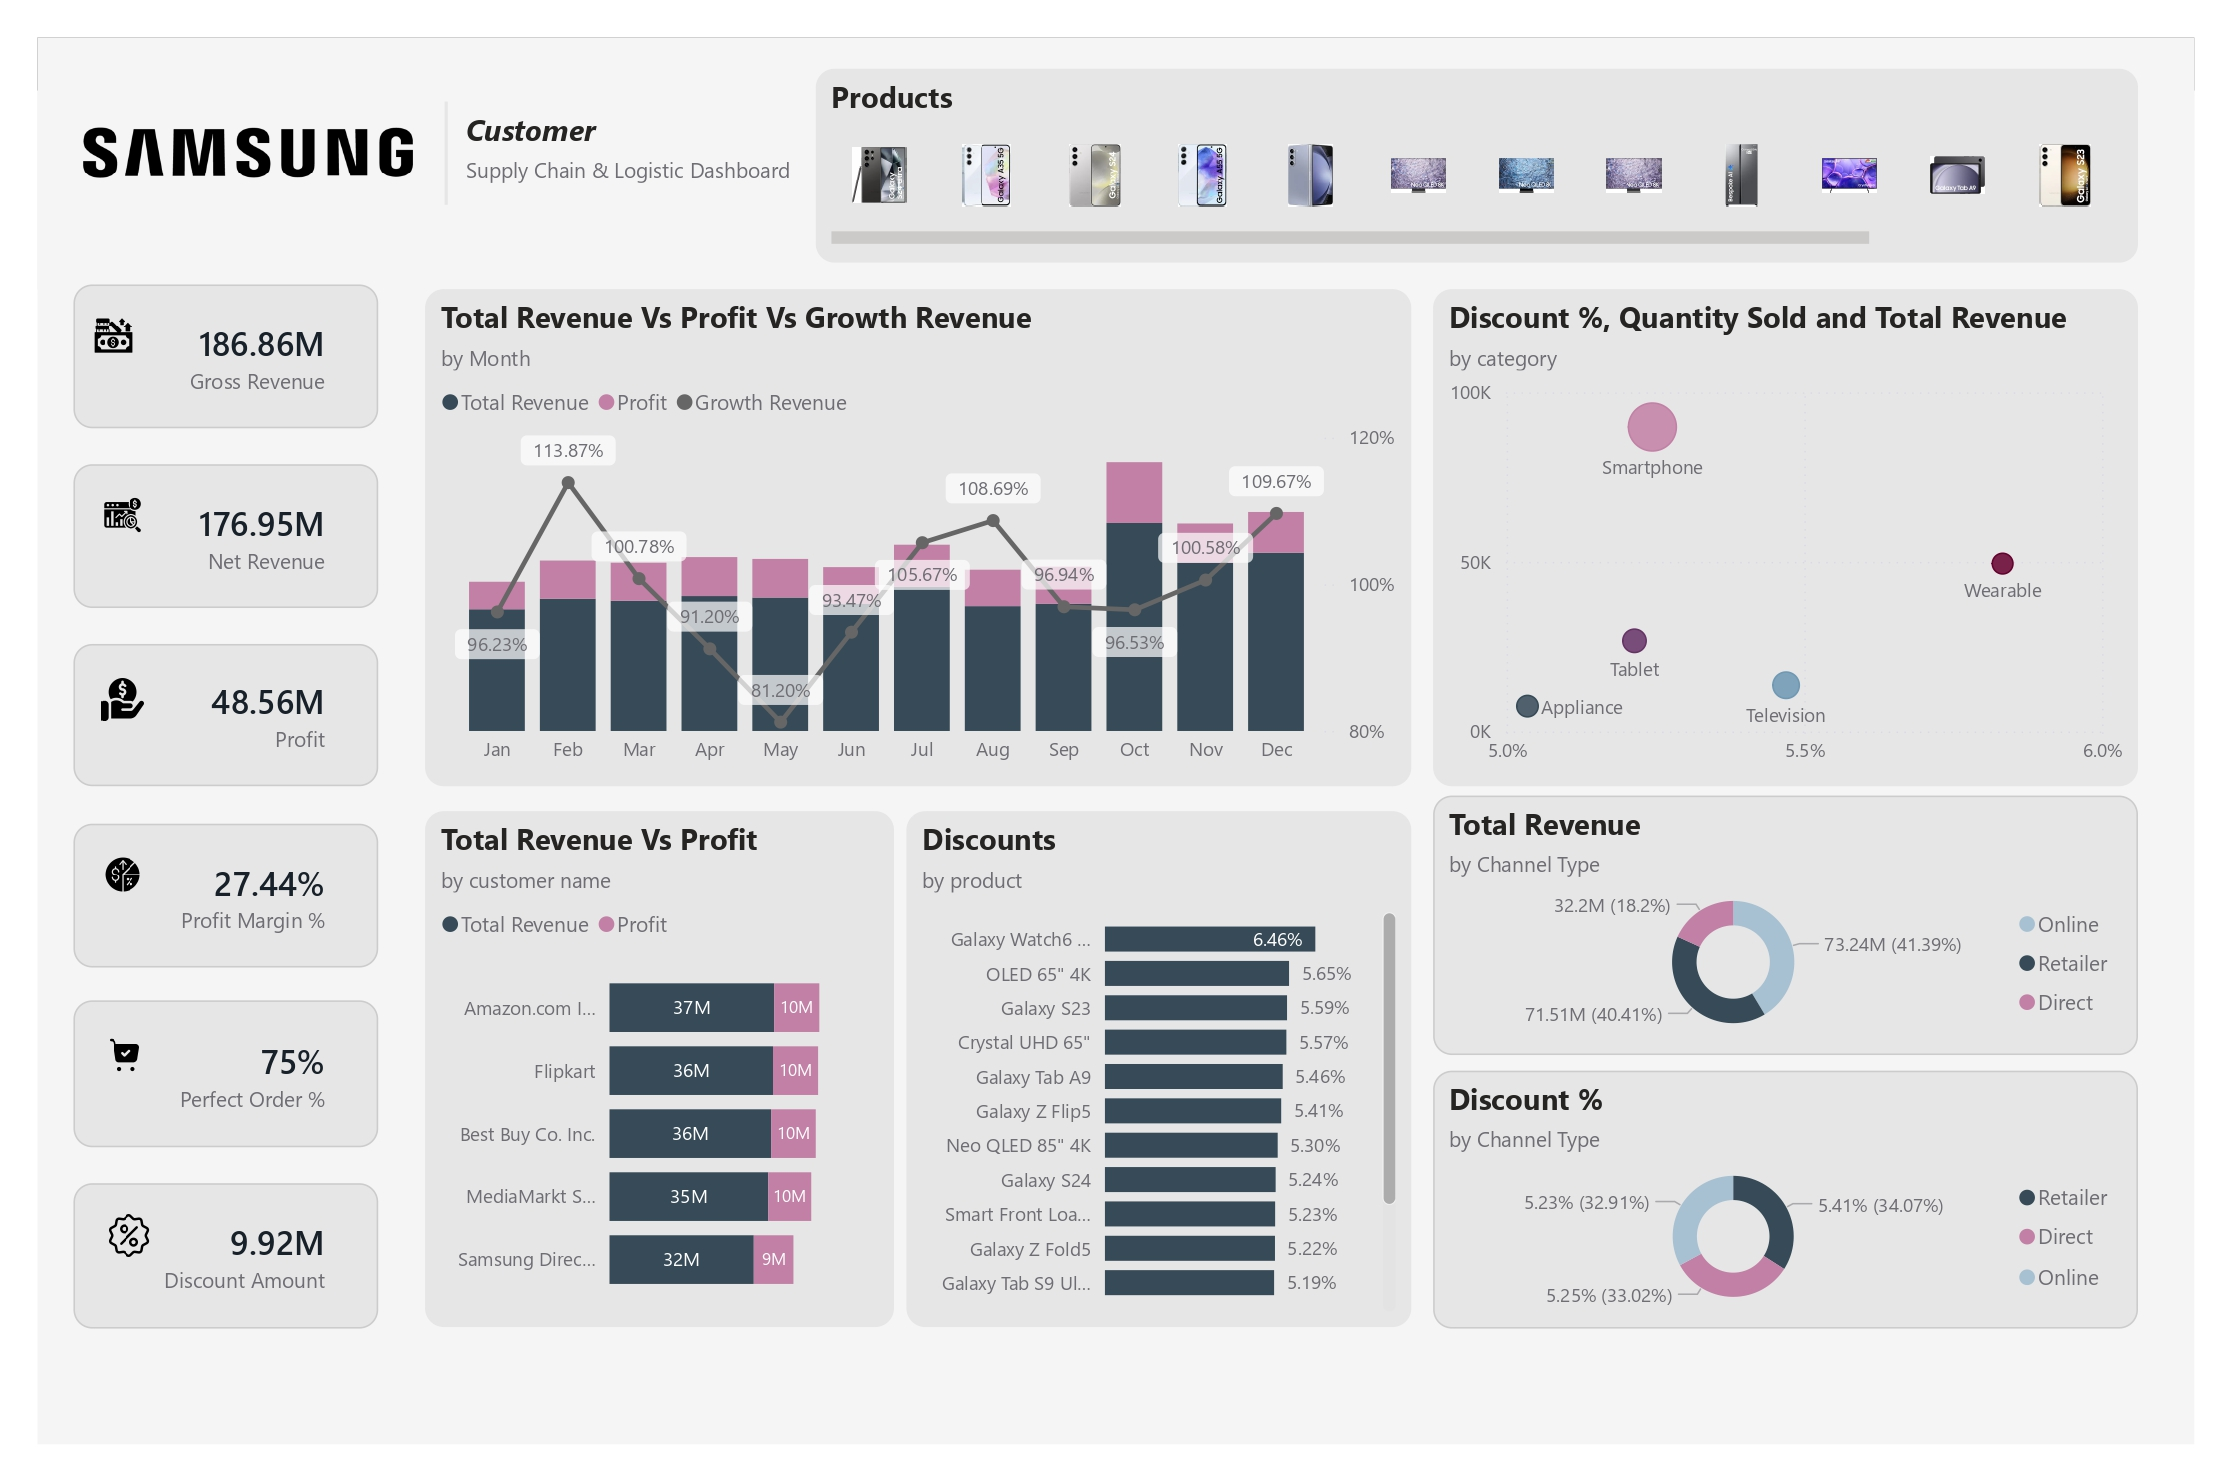

What the dashboard file says about the page in this screenshot:
{"tool":"powerbi","page":{"name":"Customer","canvas":[1380,900],"ordinal":5},"visuals":[{"type":"image","box":[11.8,34.2,235.5,77.6],"z":0},{"type":"shape","box":[259.2,40.8,5.3,65.8],"z":1000},{"type":"shape","title":"Customer","box":[273.7,46.1,225,55.3],"z":2000},{"type":"cardVisual","fields":{"Data":["MeasureTable.Total_Revenue"]},"box":[23.3,273,195,91.7],"z":3000},{"type":"cardVisual","fields":{"Data":["MeasureTable.Profit"]},"box":[23.3,387.7,195,91.7],"z":4000},{"type":"cardVisual","fields":{"Data":["MeasureTable.Profit Margin %"]},"box":[23,502.7,195,91.9],"z":5000},{"type":"cardVisual","fields":{"Data":["MeasureTable.Perfect_Order %"]},"box":[23,616.4,195,93.4],"z":6000},{"type":"cardVisual","fields":{"Data":["Sum(fact_sales.discount_amount)"]},"box":[23,732.8,195,93.4],"z":7000},{"type":"cardVisual","fields":{"Data":["Sum(fact_sales.gross_revenue)"]},"box":[23.3,158.3,195,91.7],"z":8000},{"type":"barChart","title":"Total Revenue Vs Profit ","fields":{"Category":["dim_customer.customer_name"],"Y":["MeasureTable.Total_Revenue","MeasureTable.Profit"]},"box":[247.5,495.1,300,329.5],"z":9000},{"type":"image","box":[28.3,178.3,40,25],"z":10000},{"type":"image","box":[28.3,293.3,51.7,25],"z":11000},{"type":"image","box":[28.3,410,51.7,26.7],"z":12000},{"type":"image","box":[28.3,523.3,51.7,25],"z":13000},{"type":"image","box":[25,638.3,60,25],"z":14000},{"type":"image","box":[28.3,753.3,60,26.7],"z":15000},{"type":"donutChart","title":"Total Revenue ","fields":{"Y":["MeasureTable.Total_Revenue"],"Category":["dim_customer.channel_type"]},"box":[893.4,485.2,450.8,165.6],"z":16000},{"type":"lineStackedColumnComboChart","title":"Total Revenue Vs Profit Vs Growth Revenue","fields":{"Category":["dim_date.Month_Short"],"Y":["MeasureTable.Total_Revenue","MeasureTable.Profit"],"Y2":["MeasureTable.Growth_Revenue"]},"box":[247.5,160.7,631.1,318],"z":17000},{"type":"scatterChart","title":"Discount %, Quantity Sold and Total Revenue ","fields":{"X":["MeasureTable.discount %"],"Y":["Sum(fact_sales.quantity_sold)"],"Size":["MeasureTable.Total_Revenue"],"Series":["dim_product.category"]},"box":[893.4,160.7,450.8,318],"z":18000},{"type":"clusteredBarChart","title":"Discounts","fields":{"Category":["dim_product.product_name"],"Y":["MeasureTable.discount %"]},"box":[555.7,495.1,323,329.5],"z":19000},{"type":"donutChart","title":"Discount % ","fields":{"Category":["dim_customer.channel_type"],"Y":["MeasureTable.discount %"]},"box":[893.4,660.7,450.8,165.6],"z":20000},{"type":"advancedSlicerVisual","title":"Products","fields":{"Values":["dim_product.Img"]},"box":[498.4,19.7,845.9,124.6],"z":21000}]}

Visuals, with their boxes on the page's 1380x900 design canvas (x1, y1, x2, y2). These are canvas units, not pixel positions in the 2232x1482 screenshot, which may show the page scaled, cropped or inside an application window:
image: detection(12, 34, 247, 112)
shape: detection(259, 41, 264, 107)
"Customer" shape: detection(274, 46, 499, 101)
cardVisual - MeasureTable.Total_Revenue: detection(23, 273, 218, 365)
cardVisual - MeasureTable.Profit: detection(23, 388, 218, 479)
cardVisual - MeasureTable.Profit Margin %: detection(23, 503, 218, 595)
cardVisual - MeasureTable.Perfect_Order %: detection(23, 616, 218, 710)
cardVisual - Sum(fact_sales.discount_amount): detection(23, 733, 218, 826)
cardVisual - Sum(fact_sales.gross_revenue): detection(23, 158, 218, 250)
"Total Revenue Vs Profit " barChart: detection(248, 495, 548, 825)
image: detection(28, 178, 68, 203)
image: detection(28, 293, 80, 318)
image: detection(28, 410, 80, 437)
image: detection(28, 523, 80, 548)
image: detection(25, 638, 85, 663)
image: detection(28, 753, 88, 780)
"Total Revenue " donutChart: detection(893, 485, 1344, 651)
"Total Revenue Vs Profit Vs Growth Revenue" lineStackedColumnComboChart: detection(248, 161, 879, 479)
"Discount %, Quantity Sold and Total Revenue " scatterChart: detection(893, 161, 1344, 479)
"Discounts" clusteredBarChart: detection(556, 495, 879, 825)
"Discount % " donutChart: detection(893, 661, 1344, 826)
"Products" advancedSlicerVisual: detection(498, 20, 1344, 144)
